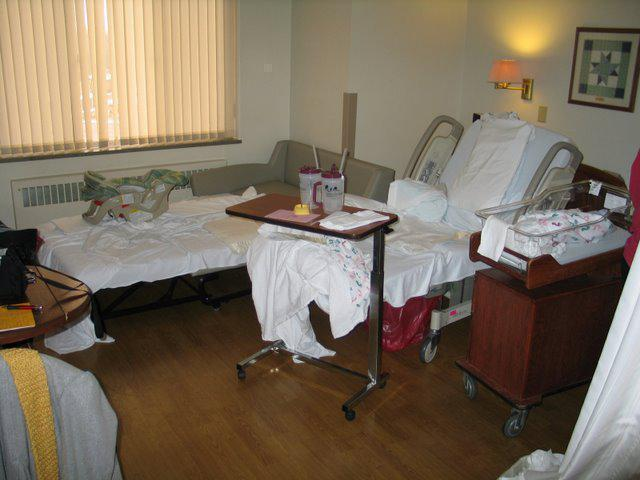Cama: (265, 127, 582, 296), (67, 159, 389, 321)
